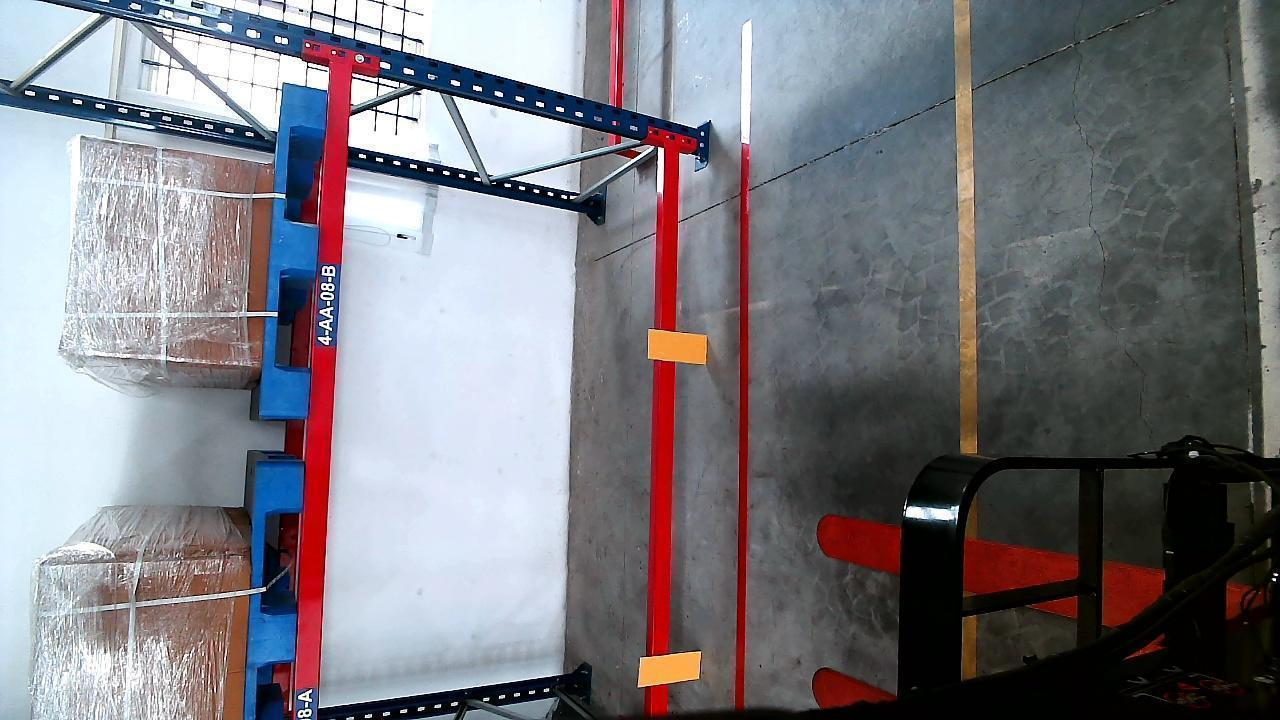red_line: (733, 134, 752, 707)
yellow_line: (955, 1, 981, 443)
